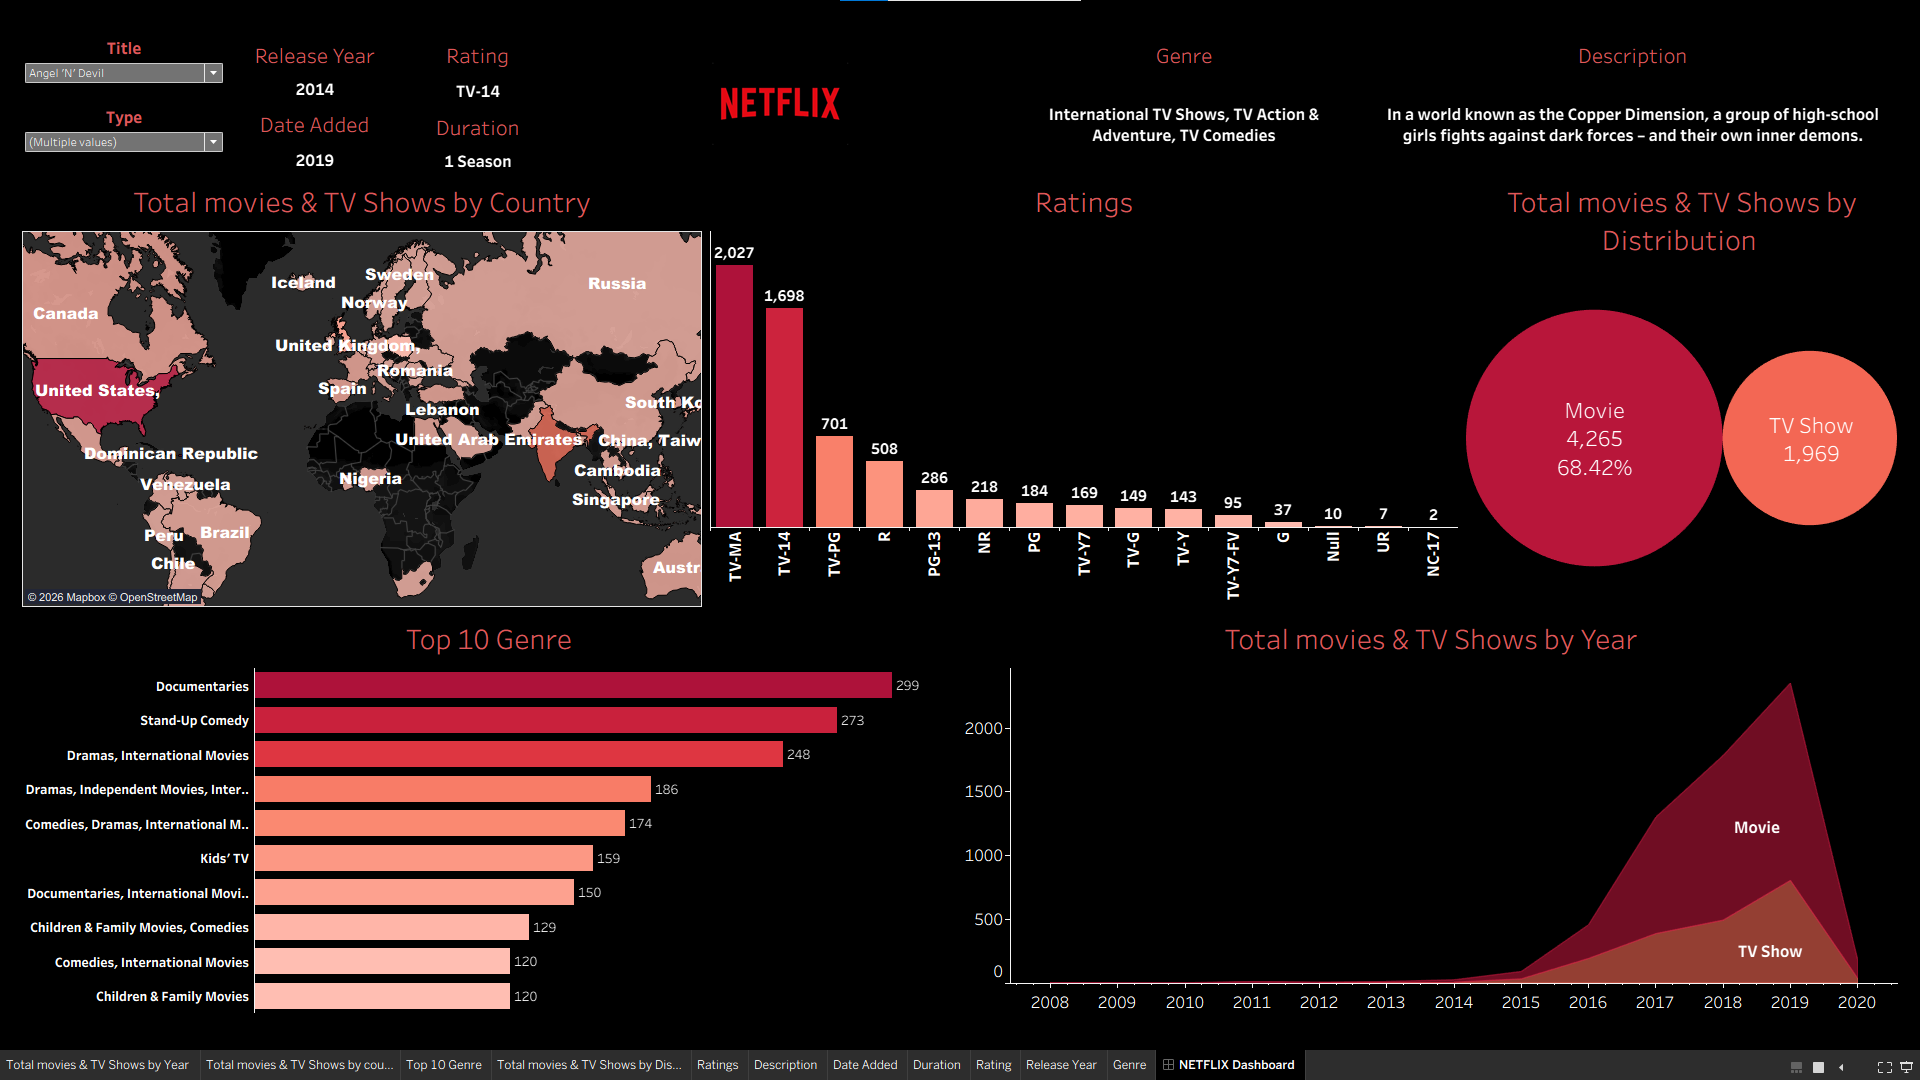

Layout of this report page (visuals, bound fields, positions):
{"tool":"tableau","page":{"name":"NETFLIX Dashboard ","canvas":[1900,1000],"ordinal":0},"visuals":[{"type":"filter","title":"Description","param":"[federated.1lna3sk1yug91h17ufygj10by6nb].[none:title:nk]","box":[8,8,212,69]},{"type":"worksheet","title":"Release Year","mark":"Automatic","box":[220,8,169,69]},{"type":"worksheet","title":"Rating","mark":"Automatic","box":[389,8,156.5,72]},{"type":"image","param":"D:/images.png","box":[545.5,8,449.4,141]},{"type":"worksheet","title":"Genre","mark":"Automatic","box":[995,8,358,141]},{"type":"worksheet","title":"Description","mark":"Automatic","box":[1353,8,539,141]},{"type":"filter","title":"Description","param":"[federated.1lna3sk1yug91h17ufygj10by6nb].[none:type:nk]","box":[8,77,212,72]},{"type":"worksheet","title":"Date Added","mark":"Automatic","box":[220,77,169,72]},{"type":"worksheet","title":"Duration","mark":"Automatic","box":[389,80,156.5,69]},{"type":"worksheet","title":"Total movies & TV Shows by country","mark":"Multipolygon","box":[8,149,688,437]},{"type":"worksheet","title":"Ratings","mark":"Automatic","rows":["show_id"],"cols":["rating"],"box":[696,149,756,437]},{"type":"worksheet","title":"Total movies & TV Shows by Distribution ","mark":"Circle","box":[1452,149,440,437]},{"type":"worksheet","title":"Top 10 Genre","mark":"Automatic","rows":["listed_in"],"cols":["show_id"],"box":[8,586,942,406]},{"type":"worksheet","title":"Total movies & TV Shows by Year","mark":"Area","rows":["show_id"],"cols":["date_added"],"box":[950,586,942,406]}]}

Visuals, with their boxes on the page's 1900x1000 design canvas (x1, y1, x2, y2). These are canvas units, not pixel positions in the 1920x1080 screenshot, which may show the page scaled, cropped or inside an application window:
"Description" filter: Rect(8, 8, 220, 77)
"Release Year" worksheet: Rect(220, 8, 389, 77)
"Rating" worksheet: Rect(389, 8, 546, 80)
image: Rect(546, 8, 995, 149)
"Genre" worksheet: Rect(995, 8, 1353, 149)
"Description" worksheet: Rect(1353, 8, 1892, 149)
"Description" filter: Rect(8, 77, 220, 149)
"Date Added" worksheet: Rect(220, 77, 389, 149)
"Duration" worksheet: Rect(389, 80, 546, 149)
"Total movies & TV Shows by country" worksheet (Multipolygon marks): Rect(8, 149, 696, 586)
"Ratings" worksheet: Rect(696, 149, 1452, 586)
"Total movies & TV Shows by Distribution " worksheet (Circle marks): Rect(1452, 149, 1892, 586)
"Top 10 Genre" worksheet: Rect(8, 586, 950, 992)
"Total movies & TV Shows by Year" worksheet (Area marks): Rect(950, 586, 1892, 992)
